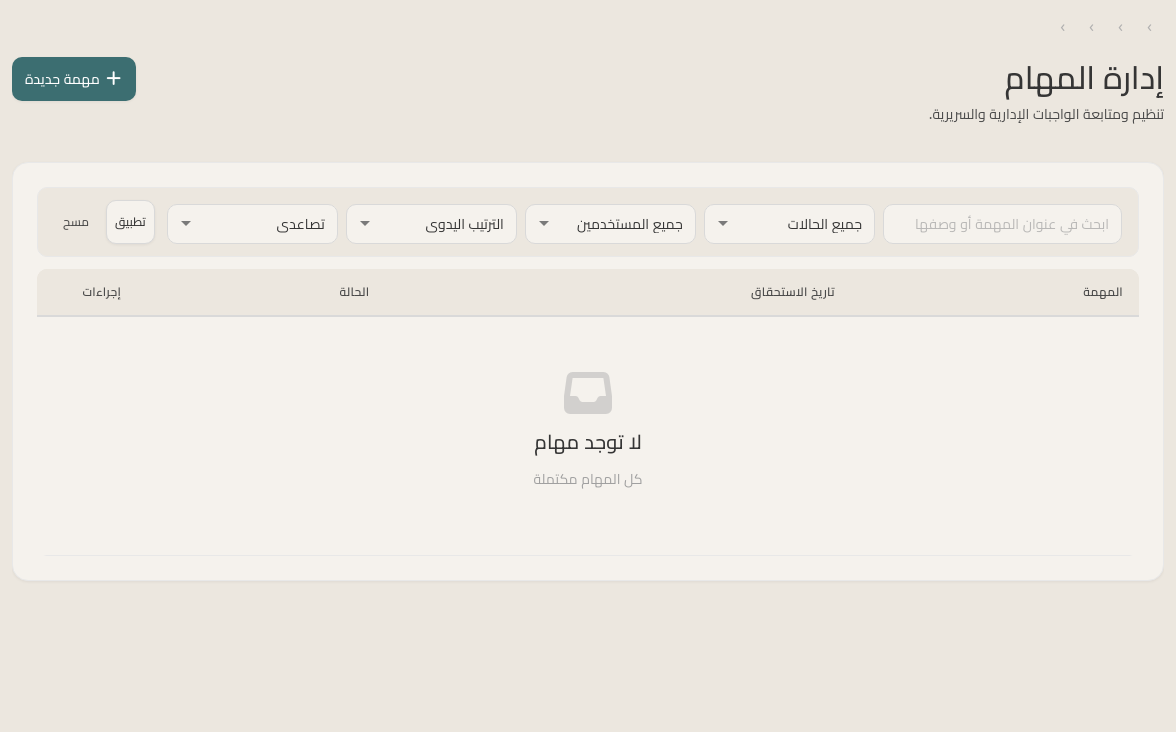
Test: rendered task creation uses the real store and service › creates from the page with optional due date 2026-10-20
Click the button "مهمة جديدة".
click(74, 79)  # box 12,57 -> 136,101
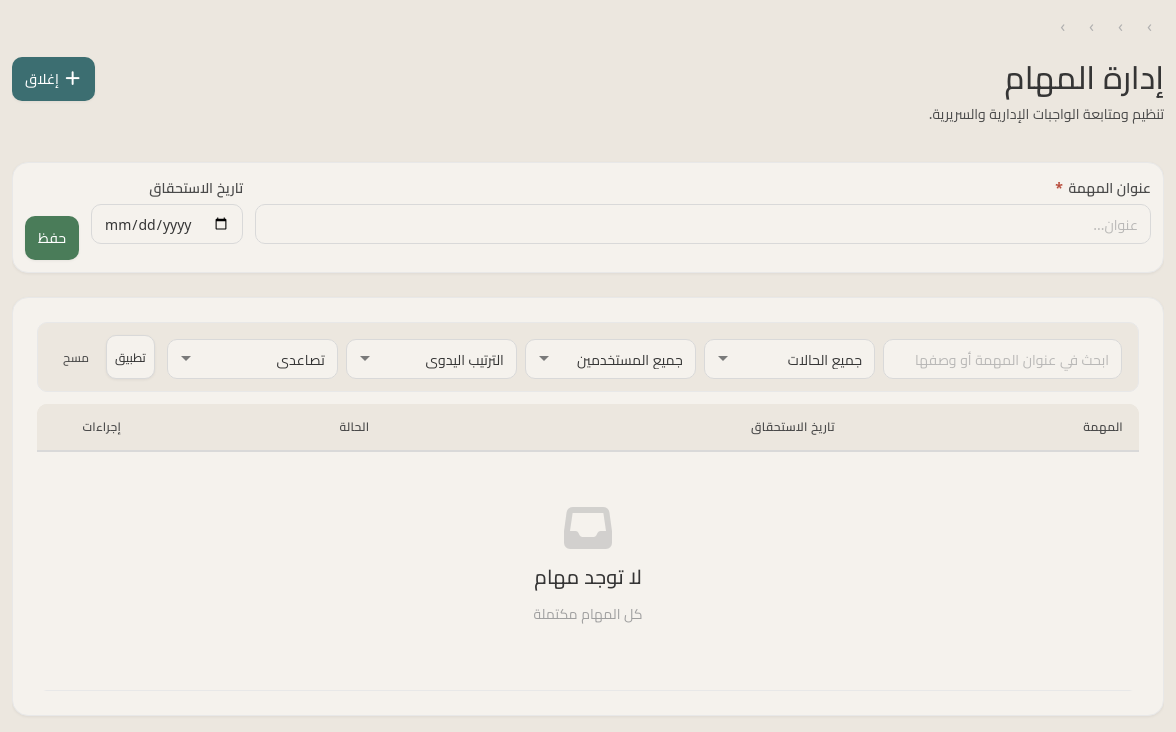
Type "Synthetic new task" into the field labelled "عنوان المهمة *".
click(703, 224); type("Synthetic new task")  # box 255,204 -> 1151,244
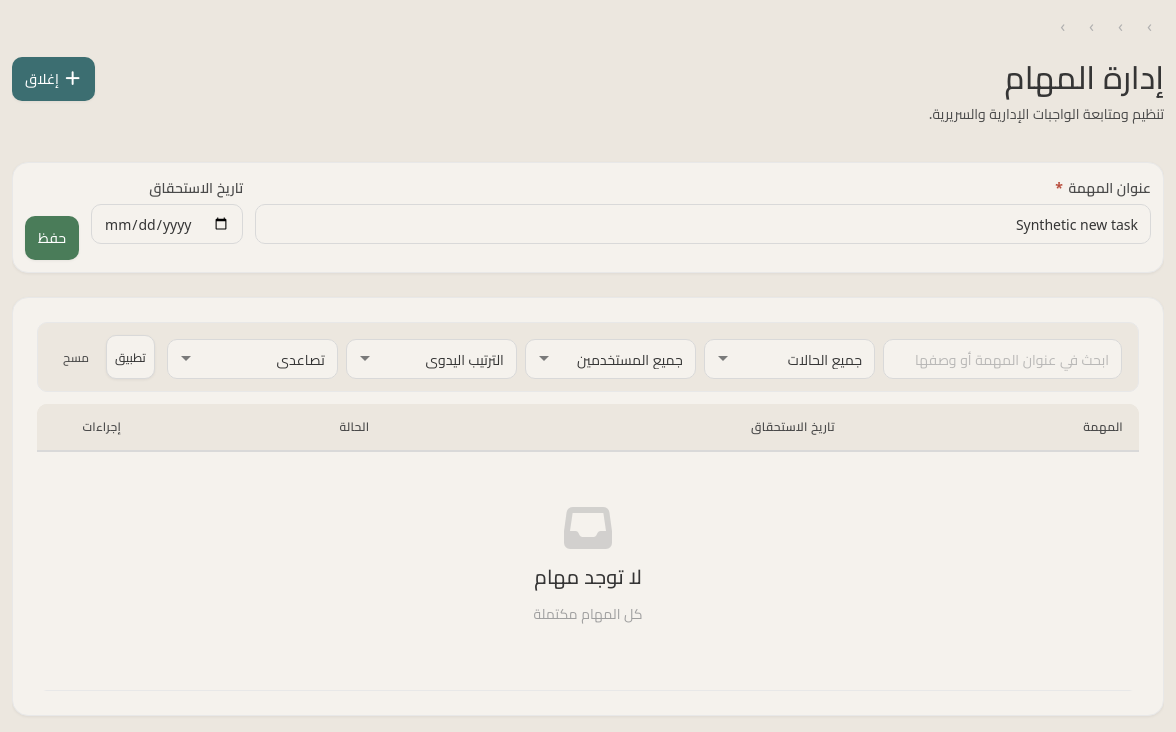
Type "2026-10-20" into the date field labelled "تاريخ الاستحقاق".
click(167, 224); type("2026-10-20")  # box 91,204 -> 243,244
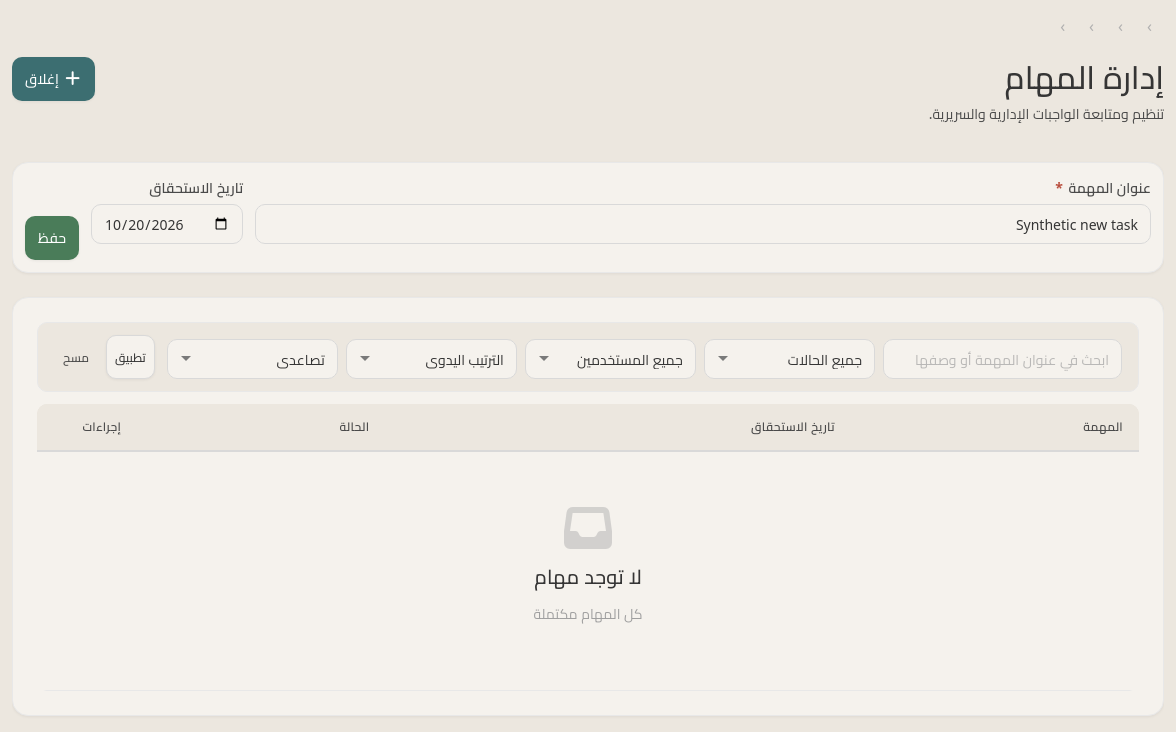
Submit the form, box 25,175 -> 1151,260
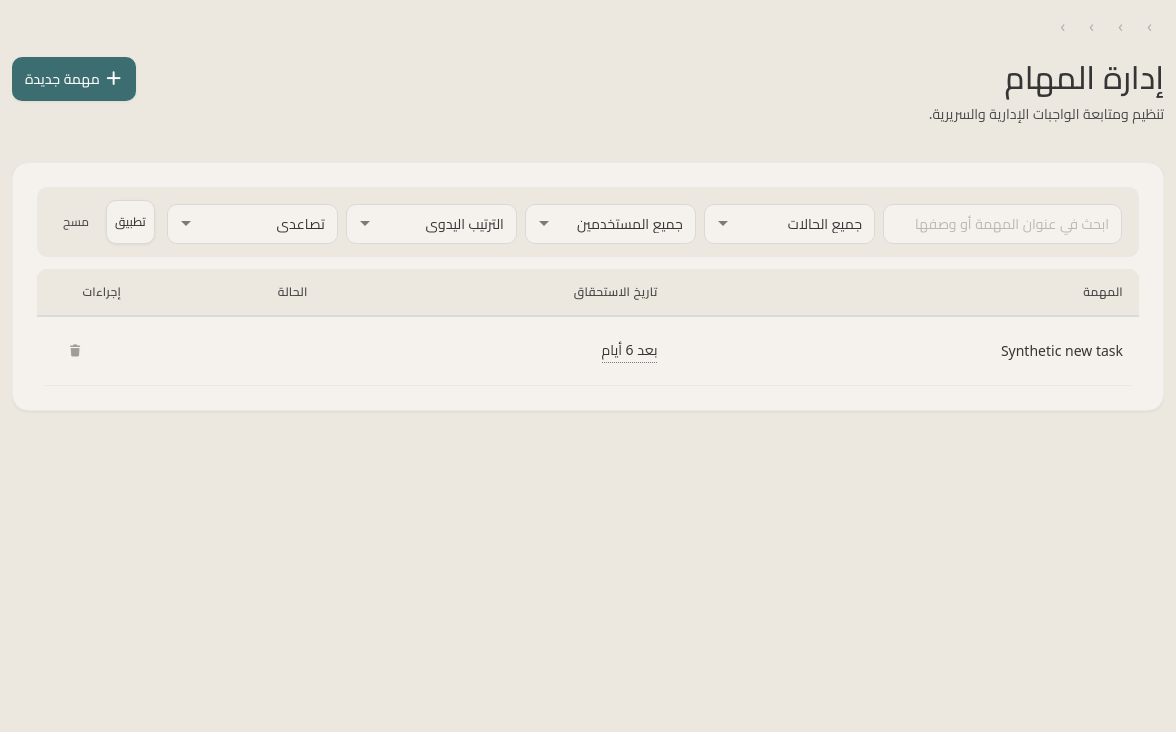
expect the table shows "Synthetic new task": met, box 1001,341 -> 1123,360
